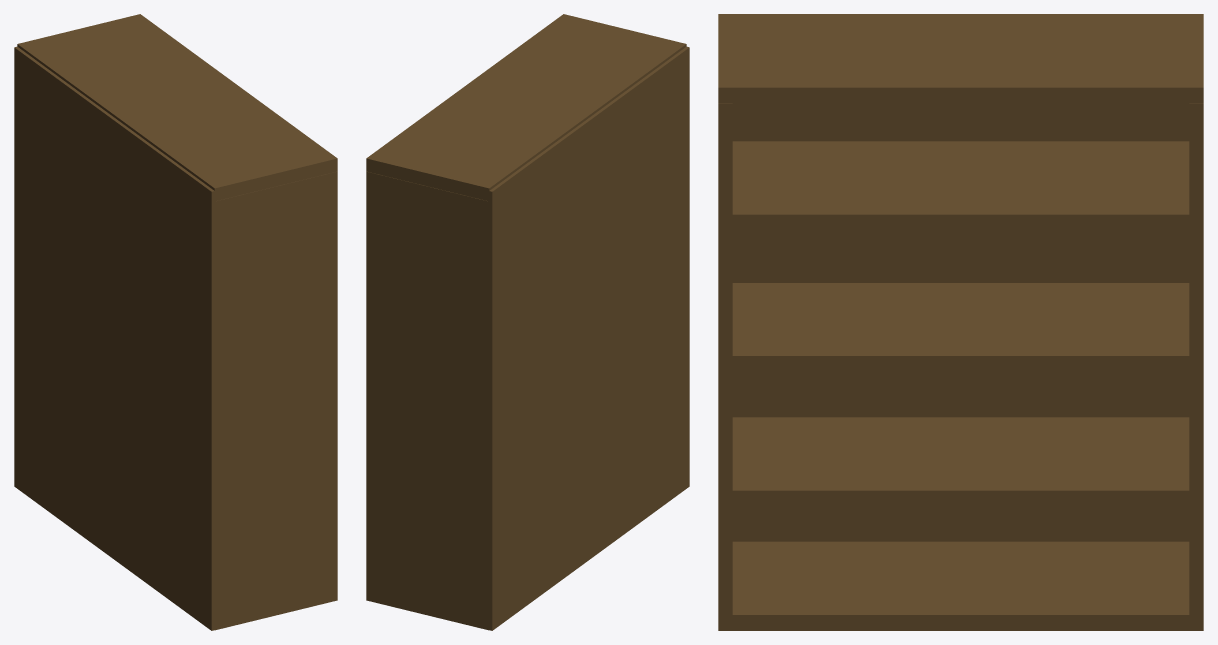
File: Boekenkast 2.fbx
3 renders of one model, left to right at view 1: azimuth 30°, elevation 25°; view 2: azimuth 150°, elevation 25°; view 3: azimuth 270°, elevation 25°, orthographic. The views are drawn at different scales.
Visible parts, largest first — view 1: Cube.045, Cube.051, Cube.050, Cube.053; view 2: Cube.045, Cube.052, Cube.050, Cube.053; view 3: Cube.045, Cube.050, Cube.053, Cube.047, Cube.049, Cube.048, Cube.052, Cube.051.
Boxes of the visible parts, left/top/right/bottom form: Cube.045: left=14, top=46, right=215, bottom=630; Cube.051: left=214, top=171, right=337, bottom=618; Cube.050: left=17, top=14, right=337, bottom=200; Cube.053: left=215, top=587, right=337, bottom=630; Cube.045: left=488, top=46, right=689, bottom=630; Cube.052: left=366, top=171, right=489, bottom=618; Cube.050: left=366, top=14, right=686, bottom=200; Cube.053: left=366, top=589, right=489, bottom=630; Cube.045: left=732, top=103, right=1189, bottom=541; Cube.050: left=718, top=14, right=1203, bottom=103; Cube.053: left=718, top=541, right=1203, bottom=630; Cube.047: left=732, top=141, right=1189, bottom=230; Cube.049: left=732, top=417, right=1189, bottom=506; Cube.048: left=732, top=283, right=1189, bottom=371; Cube.052: left=1189, top=103, right=1203, bottom=616; Cube.051: left=718, top=103, right=732, bottom=616.
Size of the model in its own units: 141 by 472 by 382.
